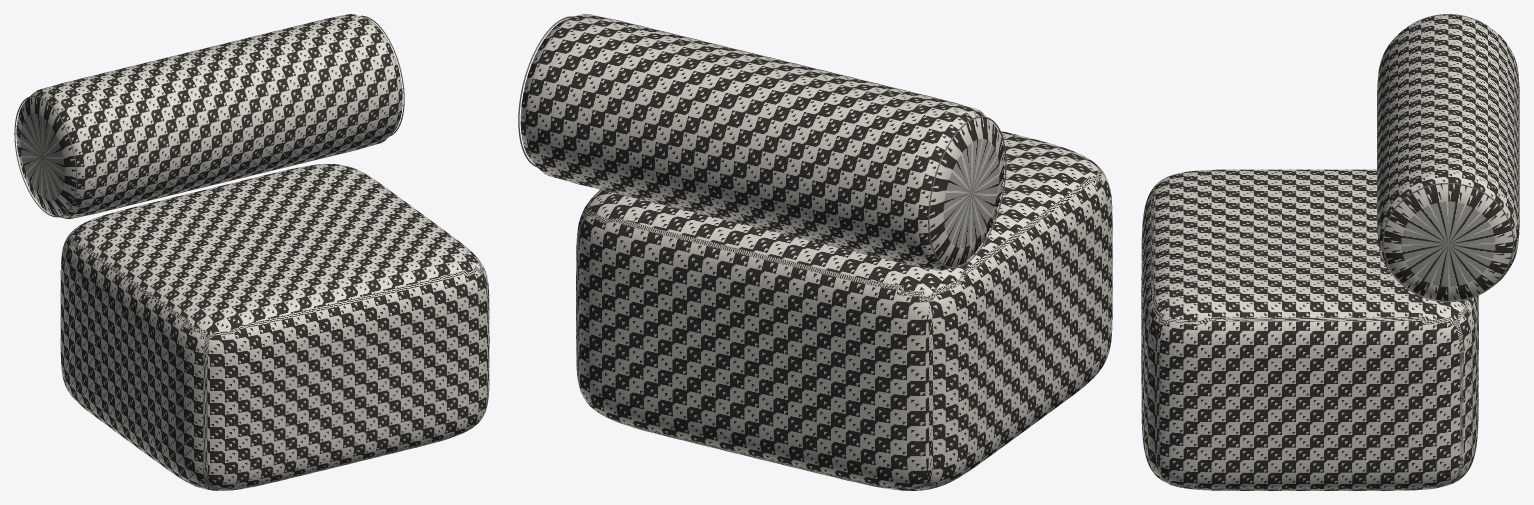
Rendered from N39_chair_photo_reconstruction.glb.
3 renders of one model, left to right at view 1: azimuth 30°, elevation 25°; view 2: azimuth 150°, elevation 25°; view 3: azimuth 270°, elevation 25°, orthographic. The views are drawn at different scales.
Parts seen in each view (by area): view 1: Black ivory woven houndstooth, Dark woven seam; view 2: Black ivory woven houndstooth, Dark woven seam; view 3: Black ivory woven houndstooth, Dark woven seam.
Part boxes in pixels (x1,y1,x2,y2): Black ivory woven houndstooth: [16, 14, 489, 490]; Dark woven seam: [14, 15, 404, 217]; Black ivory woven houndstooth: [520, 14, 1112, 490]; Dark woven seam: [518, 16, 1006, 268]; Black ivory woven houndstooth: [1141, 15, 1519, 490]; Dark woven seam: [1382, 14, 1513, 302].
Size of the model in its own units: 0.87 by 0.787 by 0.807.
Materials: 2 (1 with a texture image).
